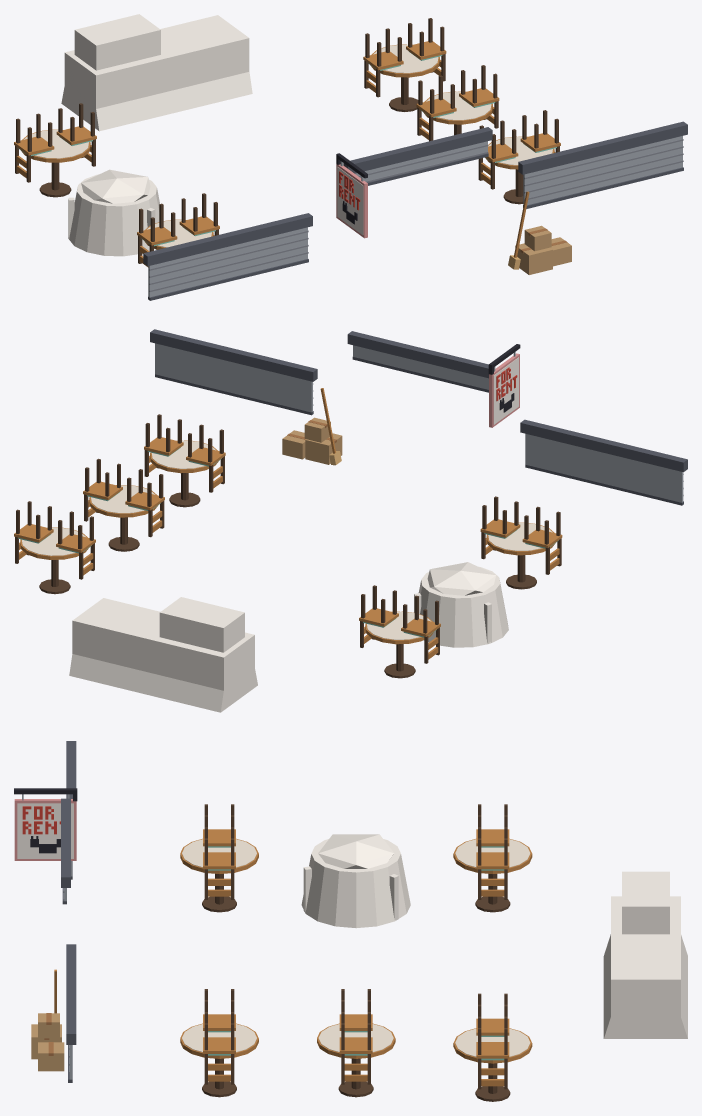
Rendered from CatCafe_Plot_ForRent.glb.
3 renders of one model, top to bottom at view 1: azimuth 30°, elevation 25°; view 2: azimuth 150°, elevation 25°; view 3: azimuth 270°, elevation 25°, orthographic. The views are drawn at different scales.
Visible parts, largest first — view 1: CatCafe_Plot_ForRent, CatCafe_Plot_ForRent_Shutter, CatCafe_Plot_ForRent_Sign; view 2: CatCafe_Plot_ForRent, CatCafe_Plot_ForRent_Shutter, CatCafe_Plot_ForRent_Sign; view 3: CatCafe_Plot_ForRent, CatCafe_Plot_ForRent_Sign.
Boxes of the visible parts, bbox=[...] form: CatCafe_Plot_ForRent: bbox=[14, 14, 687, 274]; CatCafe_Plot_ForRent_Shutter: bbox=[148, 136, 683, 300]; CatCafe_Plot_ForRent_Sign: bbox=[337, 167, 363, 235]; CatCafe_Plot_ForRent: bbox=[14, 329, 687, 712]; CatCafe_Plot_ForRent_Shutter: bbox=[155, 343, 683, 505]; CatCafe_Plot_ForRent_Sign: bbox=[493, 357, 518, 424]; CatCafe_Plot_ForRent: bbox=[14, 741, 687, 1101]; CatCafe_Plot_ForRent_Sign: bbox=[17, 803, 73, 858].
Size of the model in its own units: 31.7 by 8.45 by 30.83.
Materials: 1 (1 with a texture image).
